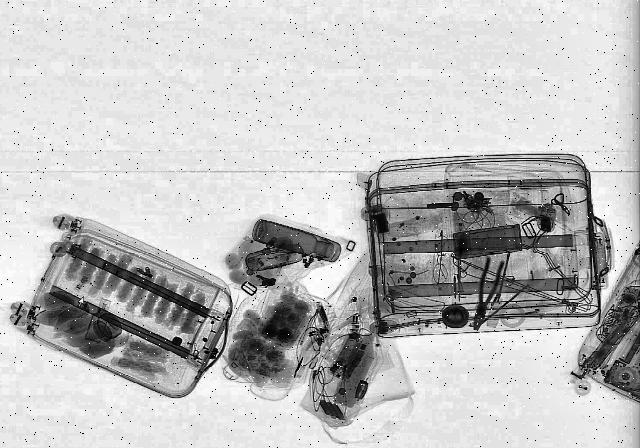Pliers: (464, 255, 510, 331)
